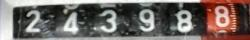digits: (176, 9, 194, 33), (137, 8, 154, 31), (100, 9, 116, 33), (62, 11, 79, 33), (25, 9, 41, 32), (214, 6, 230, 27)
